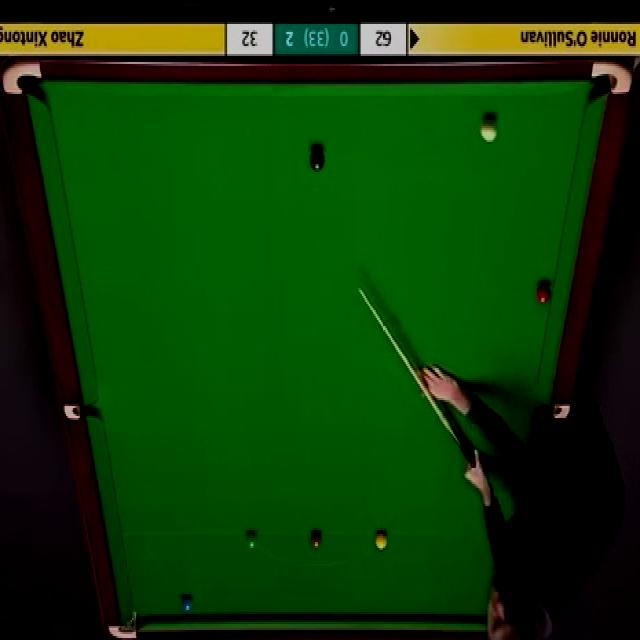black-ball: (309, 147, 326, 173)
blue-ball: (181, 596, 194, 613)
brown-ball: (309, 530, 324, 552)
green-ball: (245, 530, 260, 550)
red-ball: (535, 282, 552, 304)
white-ball: (482, 119, 498, 146)
yellow-ball: (375, 531, 388, 552)
